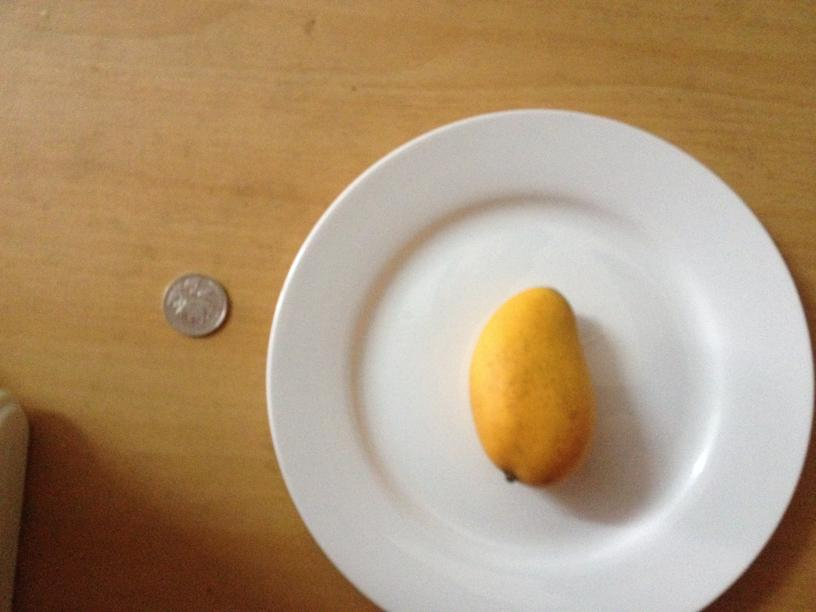coin: (162, 272, 228, 338)
mango: (471, 282, 595, 482)
